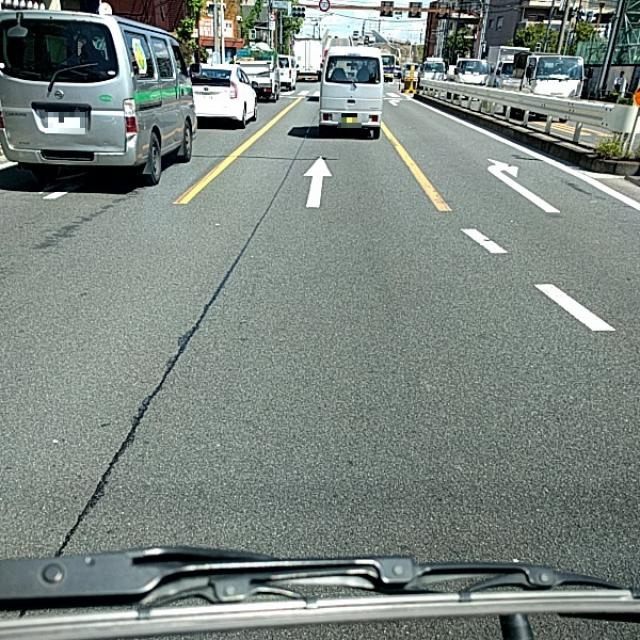pothole: (142, 296, 210, 406)
